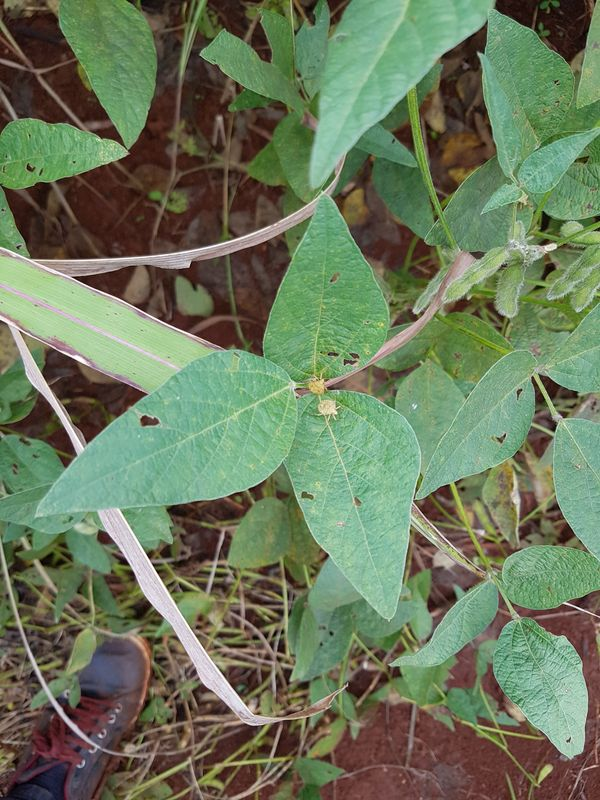Euschistus_heros_ninfa: (308, 397, 346, 429), (301, 368, 336, 398)
